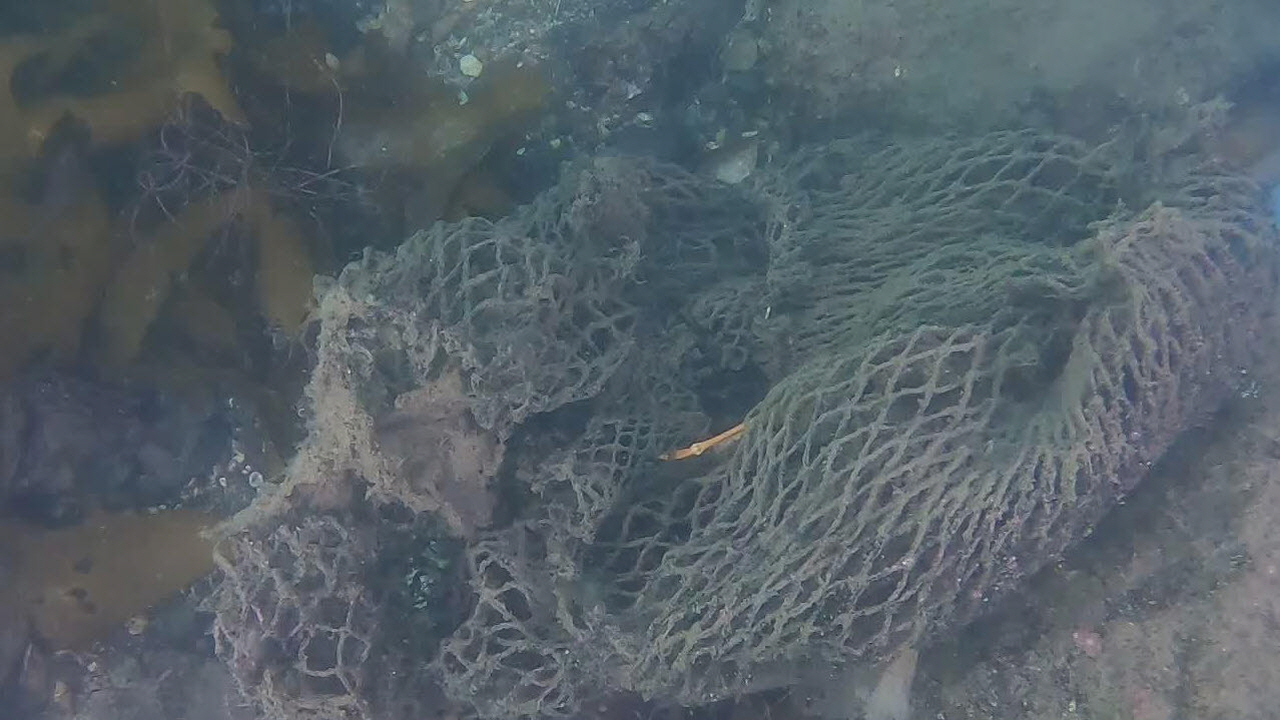fish net: (203, 128, 1280, 720)
